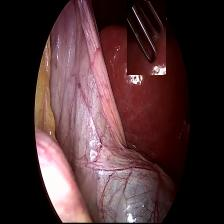Grasper: (127, 2, 166, 76)
